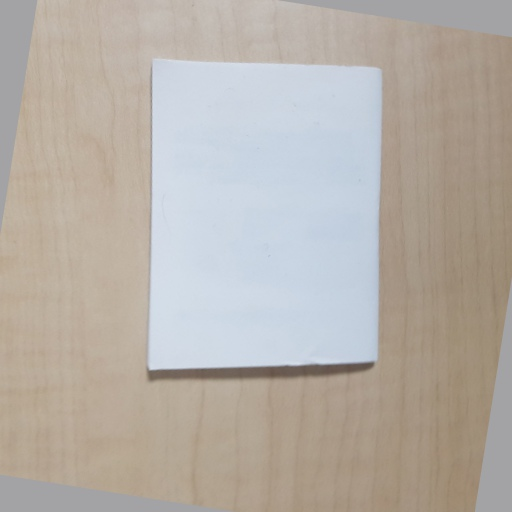Paper_0: (146, 54, 387, 389)
